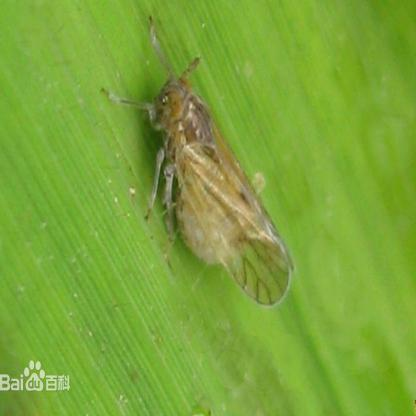brown-planthopper: (144, 66, 293, 313)
